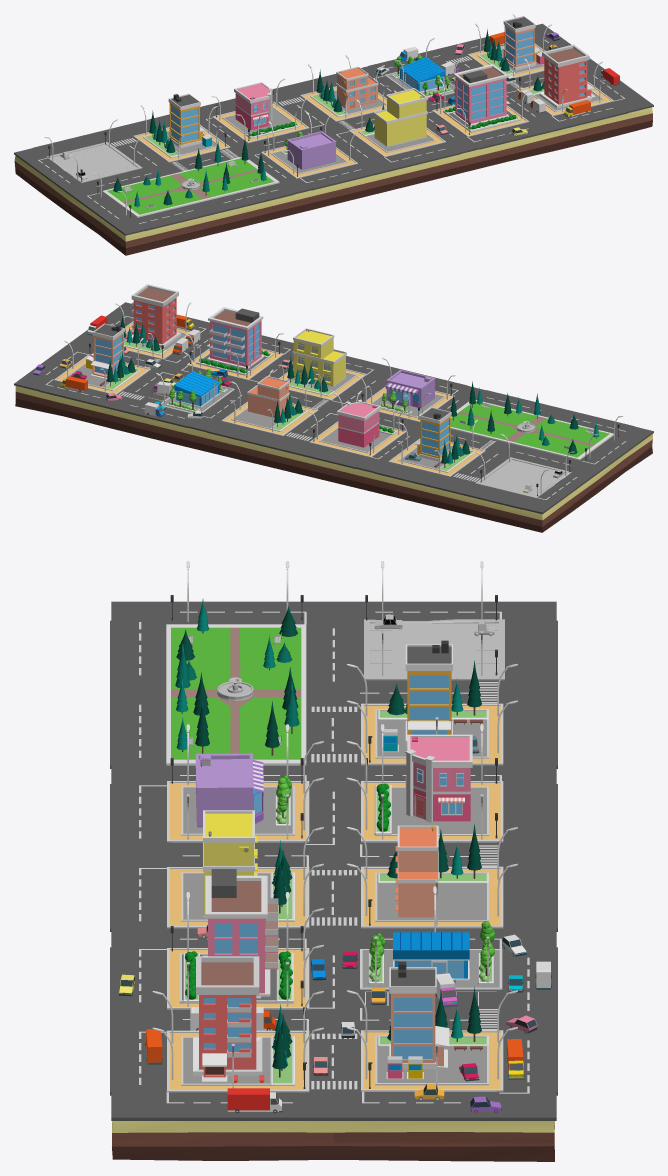
Rendered from Evn_01.fbx.
3 renders of one model, top to bottom at view 1: azimuth 30°, elevation 25°; view 2: azimuth 150°, elevation 25°; view 3: azimuth 270°, elevation 25°, orthographic. The views are drawn at different scales.
Visible parts, largest first — view 1: Floor_6, ROAD.002, ROAD.001, ROAD, Plane.049, House, House_2, villa.002, Plane.050, House_3.001, albergo, House_3 (+16 smaller); view 2: Floor_6, ROAD.002, ROAD, ROAD.001, Plane.049, House, House_2, villa.002, Plane.050, albergo, House_3.001, House_3 (+19 smaller); view 3: ROAD, ROAD.002, ROAD.001, Floor_6, Plane.049, House_2, House, Plane.050, albergo, House_3, House_3.001, casa.005 (+24 smaller).
Part boxes in pixels (left/top/right/bottom): Floor_6: left=14, top=107, right=652, bottom=255; ROAD.002: left=14, top=114, right=293, bottom=235; ROAD.001: left=200, top=74, right=460, bottom=194; ROAD: left=361, top=23, right=653, bottom=153; Plane.049: left=102, top=157, right=279, bottom=217; House: left=452, top=64, right=510, bottom=126; House_2: left=539, top=44, right=595, bottom=108; villa.002: left=373, top=88, right=427, bottom=146; Plane.050: left=46, top=142, right=142, bottom=183; House_3.001: left=168, top=93, right=205, bottom=148; albergo: left=234, top=82, right=272, bottom=130; House_3: left=501, top=16, right=535, bottom=70; Floor_6: left=15, top=386, right=652, bottom=532; ROAD.002: left=374, top=390, right=653, bottom=514; ROAD: left=14, top=302, right=293, bottom=432; ROAD.001: left=207, top=356, right=486, bottom=473; Plane.049: left=450, top=400, right=613, bottom=460; House: left=206, top=307, right=263, bottom=369; House_2: left=131, top=284, right=181, bottom=347; villa.002: left=292, top=328, right=346, bottom=386; Plane.050: left=475, top=457, right=571, bottom=498; albergo: left=336, top=399, right=380, bottom=447; House_3.001: left=414, top=407, right=451, bottom=461; House_3: left=90, top=323, right=124, bottom=379; ROAD: left=110, top=928, right=557, bottom=1120; ROAD.002: left=110, top=601, right=557, bottom=768; ROAD.001: left=110, top=765, right=557, bottom=931; Floor_6: left=112, top=1121, right=554, bottom=1161; Plane.049: left=166, top=624, right=306, bottom=765; House_2: left=193, top=956, right=262, bottom=1082; House: left=203, top=869, right=278, bottom=998; Plane.050: left=364, top=619, right=504, bottom=680; albergo: left=405, top=734, right=472, bottom=822; House_3: left=389, top=961, right=449, bottom=1069; House_3.001: left=405, top=640, right=452, bottom=746; casa.005: left=195, top=753, right=263, bottom=827.
Size of the model in its own units: 31872 by 3995 by 11693.
